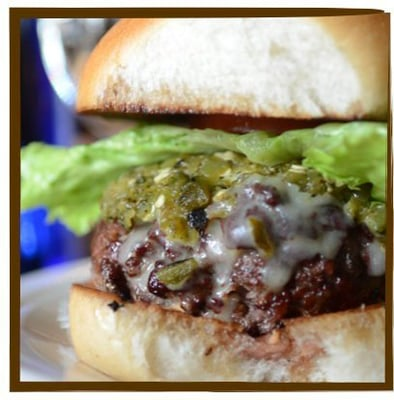soup: (14, 17, 390, 385)
